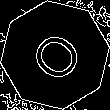O_SE: (22, 23, 88, 87)
